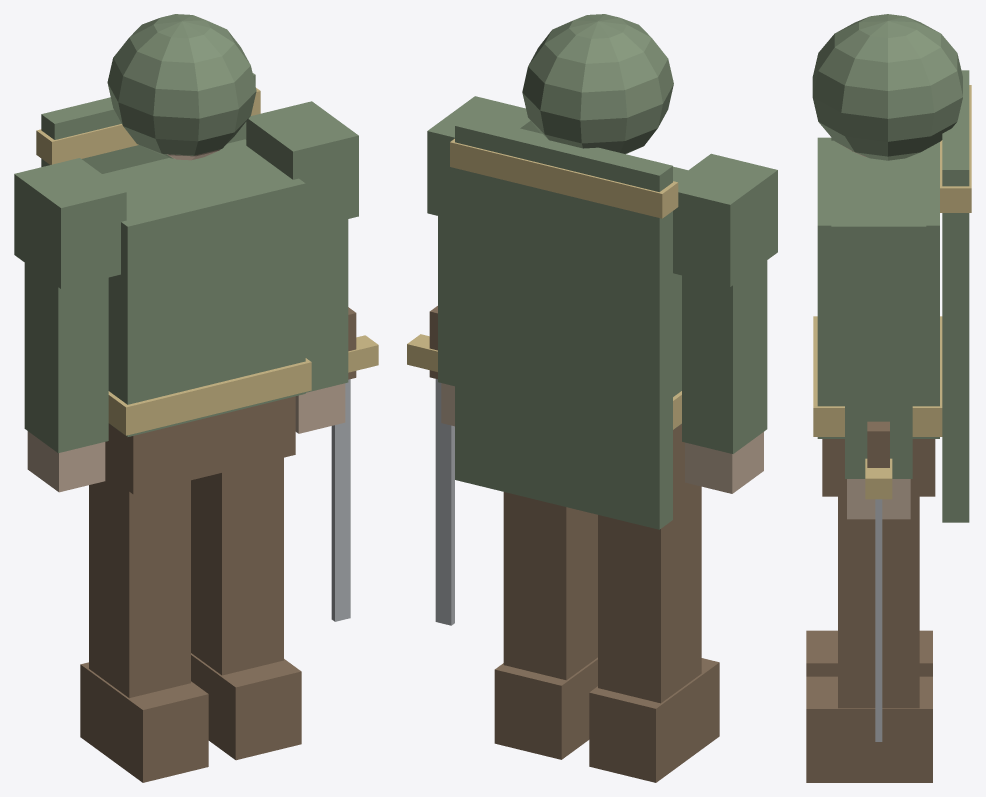
The model's file is hero.fbx.
The picture shows the model from 3 angles, left to right: view 1: azimuth 30°, elevation 25°; view 2: azimuth 150°, elevation 25°; view 3: azimuth 270°, elevation 25°; orthographic projection.
Visible parts, largest first — view 1: hero; view 2: hero; view 3: hero.
Boxes of the visible parts, x1,y1,x2,y2 form: hero: (14,14,378,782); hero: (407,14,777,782); hero: (806,14,971,782).
Size of the model in its own units: 86.5 by 176 by 36.5.
